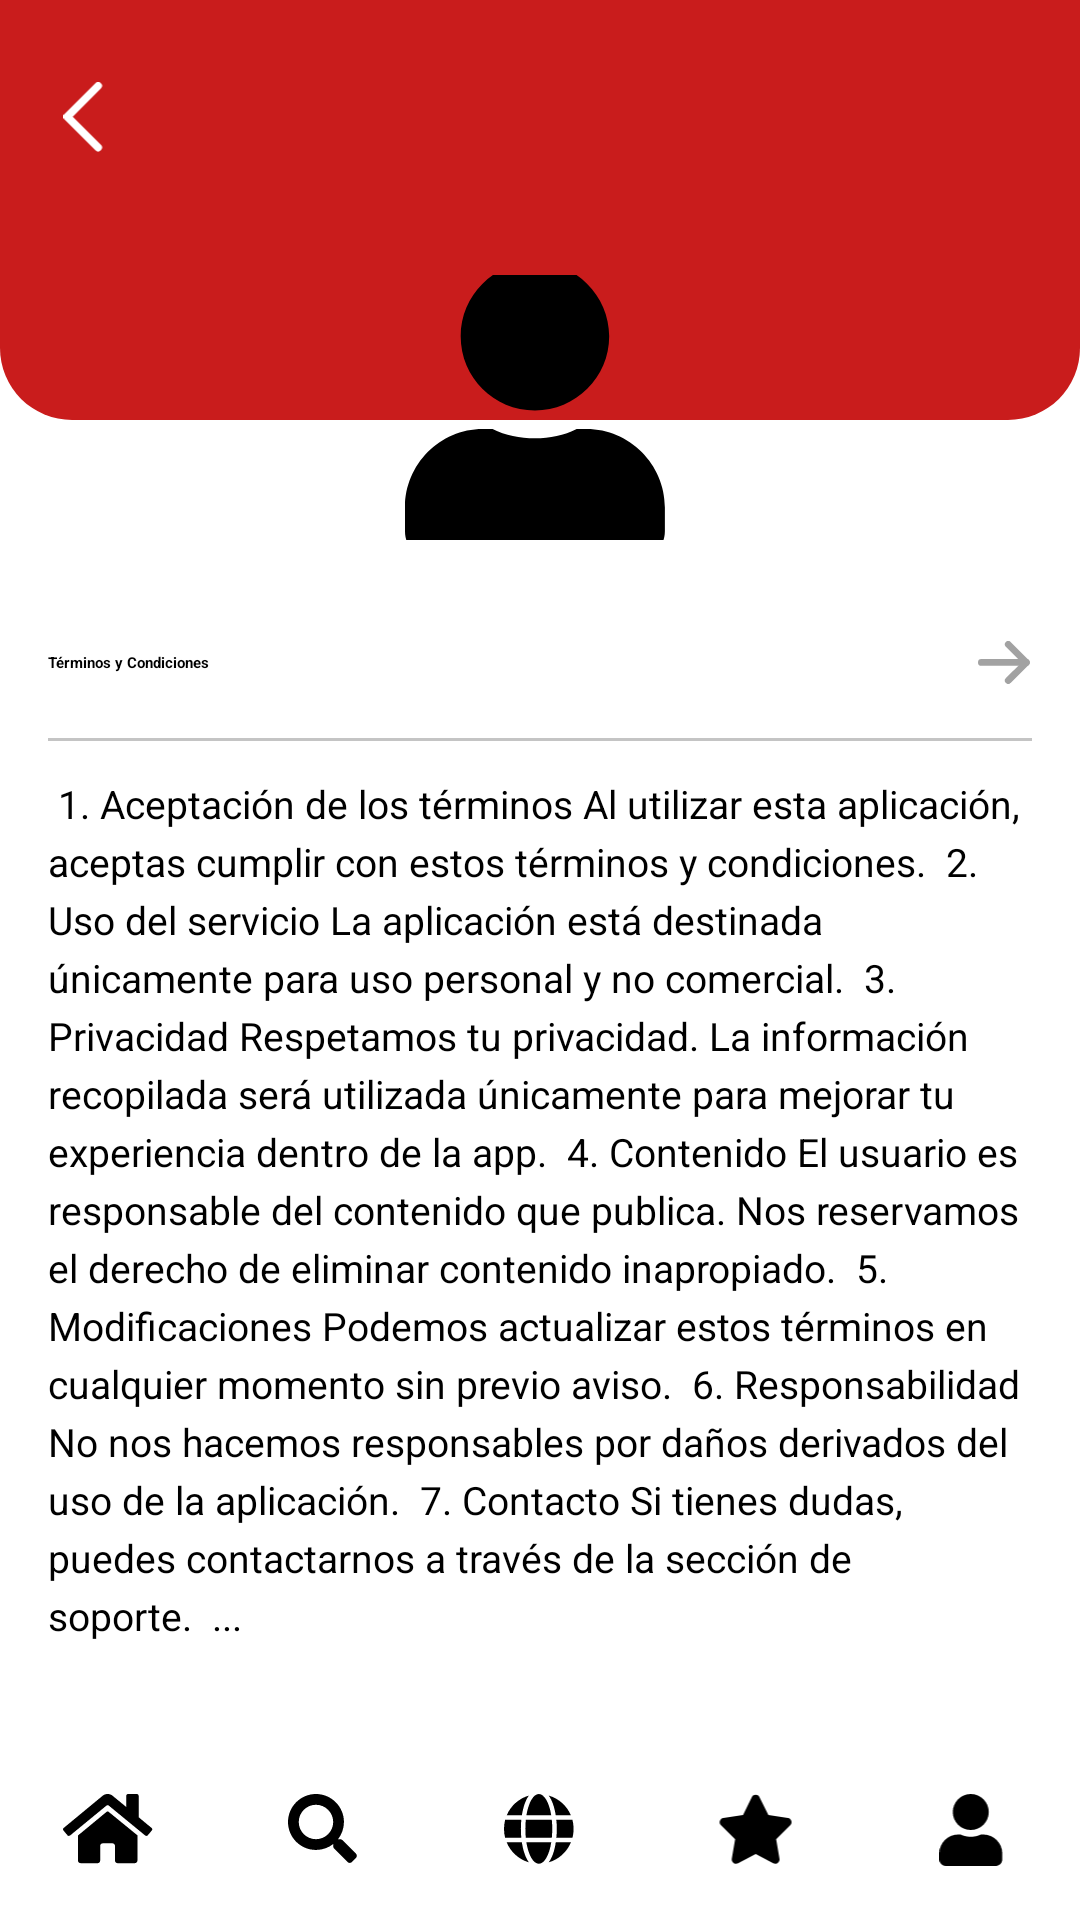

Point at icon controls on the screen. Image size 1080 × 1920, points as (x,y).
arrow left: (83,117)
arrow right: (1004,662)
globe: (539,1829)
home: (108,1829)
search: (322,1828)
star: (755,1829)
user: (540,407), (971,1830)
